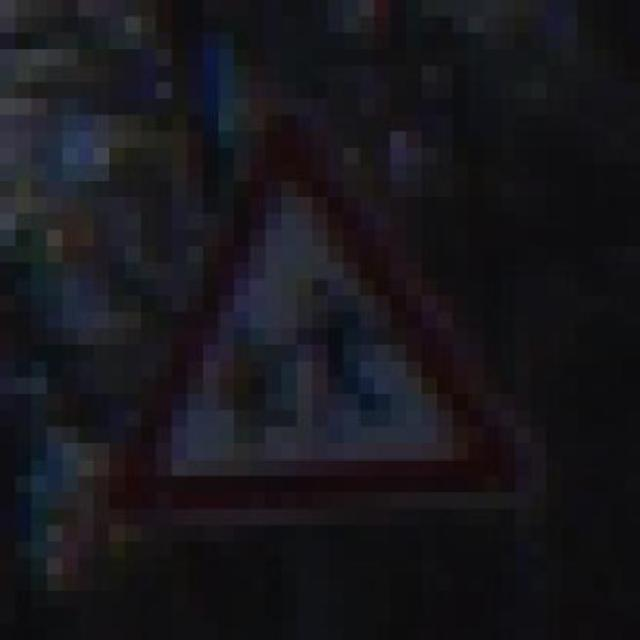Beware of children: (90, 98, 528, 525)
